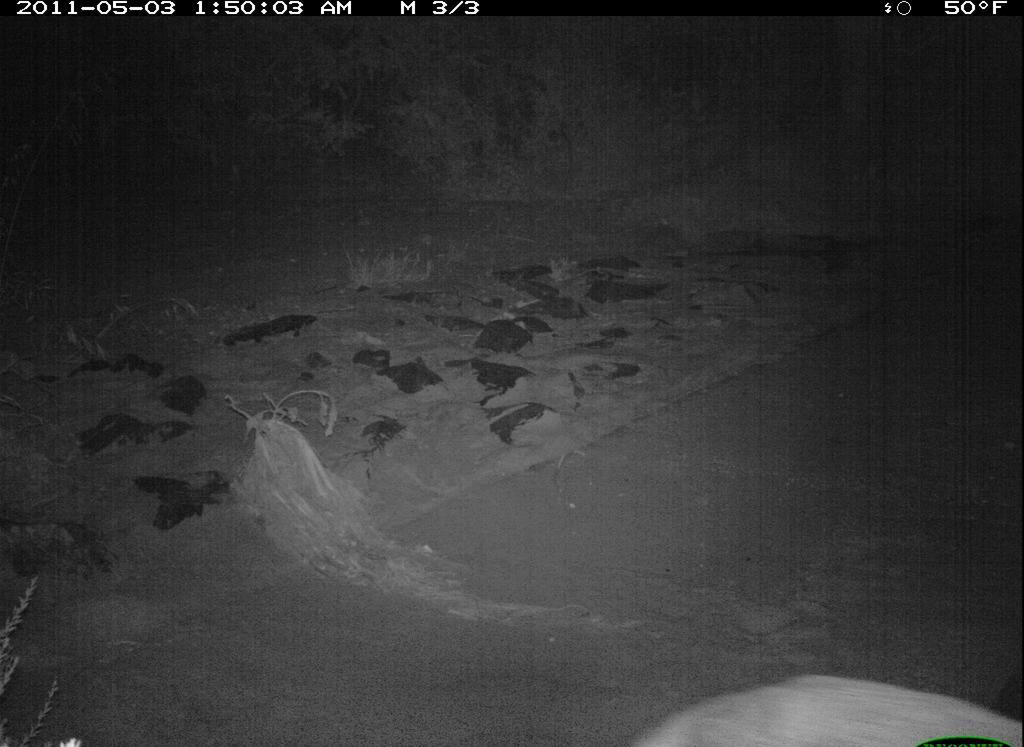coyote: (607, 659, 1020, 747)
